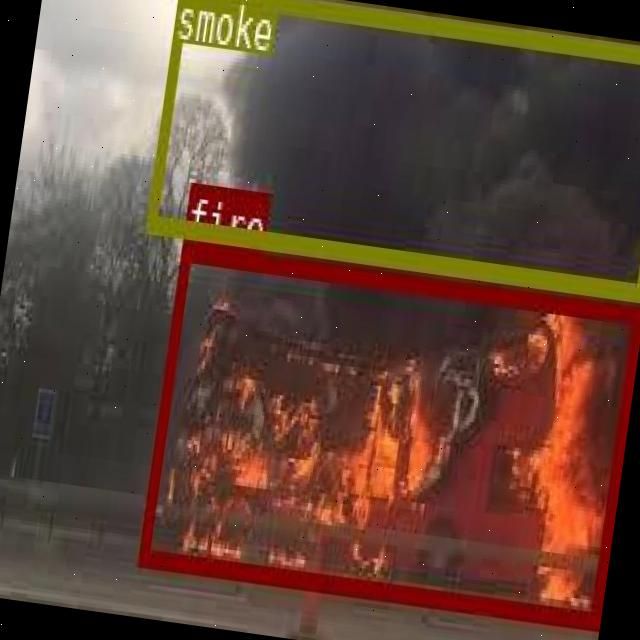fire: (138, 242, 640, 624)
smoke: (144, 0, 640, 297)
